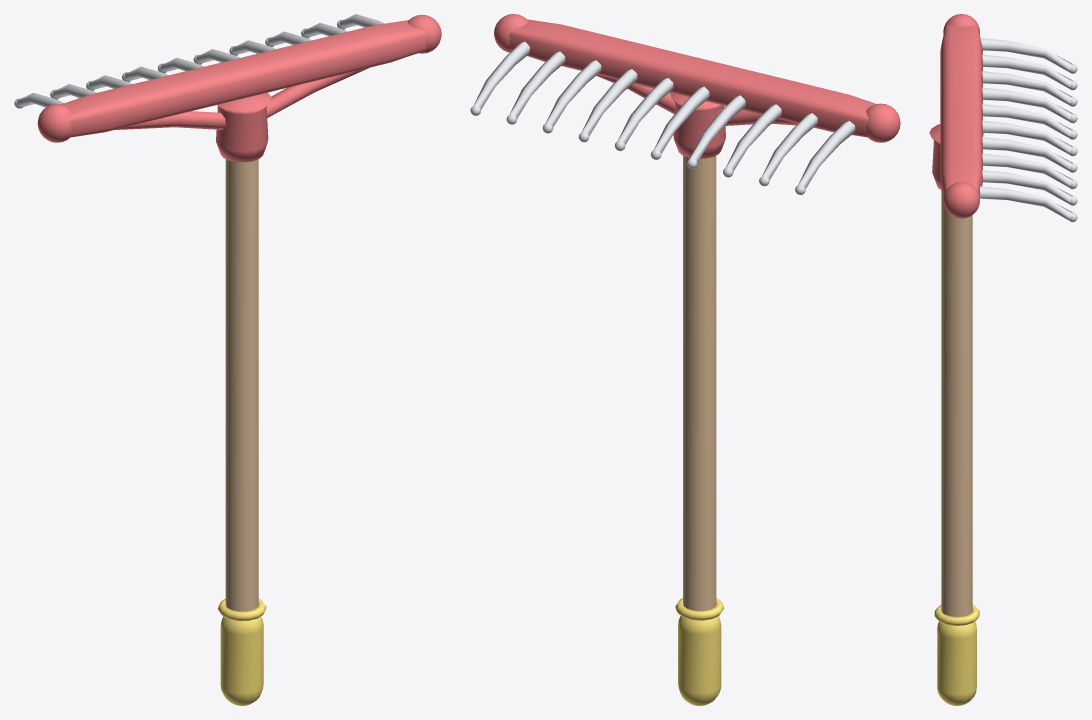
File: GardenRake.glb
3 views of the same model, side by side, from view 1: azimuth 30°, elevation 25°; view 2: azimuth 150°, elevation 25°; view 3: azimuth 270°, elevation 25° (orthographic). The views are drawn at different scales.
Visible parts, largest first — view 1: RakeHead, RakeHandle, RakeTines, RakeGrip; view 2: RakeHead, RakeHandle, RakeTines, RakeGrip; view 3: RakeHandle, RakeTines, RakeHead, RakeGrip.
Boxes of the visible parts, <box> form: RakeHead: <box>37,14,441,162</box>; RakeHandle: <box>225,159,258,621</box>; RakeTines: <box>14,14,384,108</box>; RakeGrip: <box>218,598,266,705</box>; RakeHead: <box>494,14,900,158</box>; RakeHandle: <box>683,155,716,610</box>; RakeTines: <box>470,41,855,194</box>; RakeGrip: <box>675,598,724,705</box>; RakeHandle: <box>941,190,972,616</box>; RakeTines: <box>979,38,1077,222</box>; RakeHead: <box>929,14,984,218</box>; RakeGrip: <box>934,604,979,705</box>.
Size of the model in its own units: 4.7 by 7.22 by 1.6.
